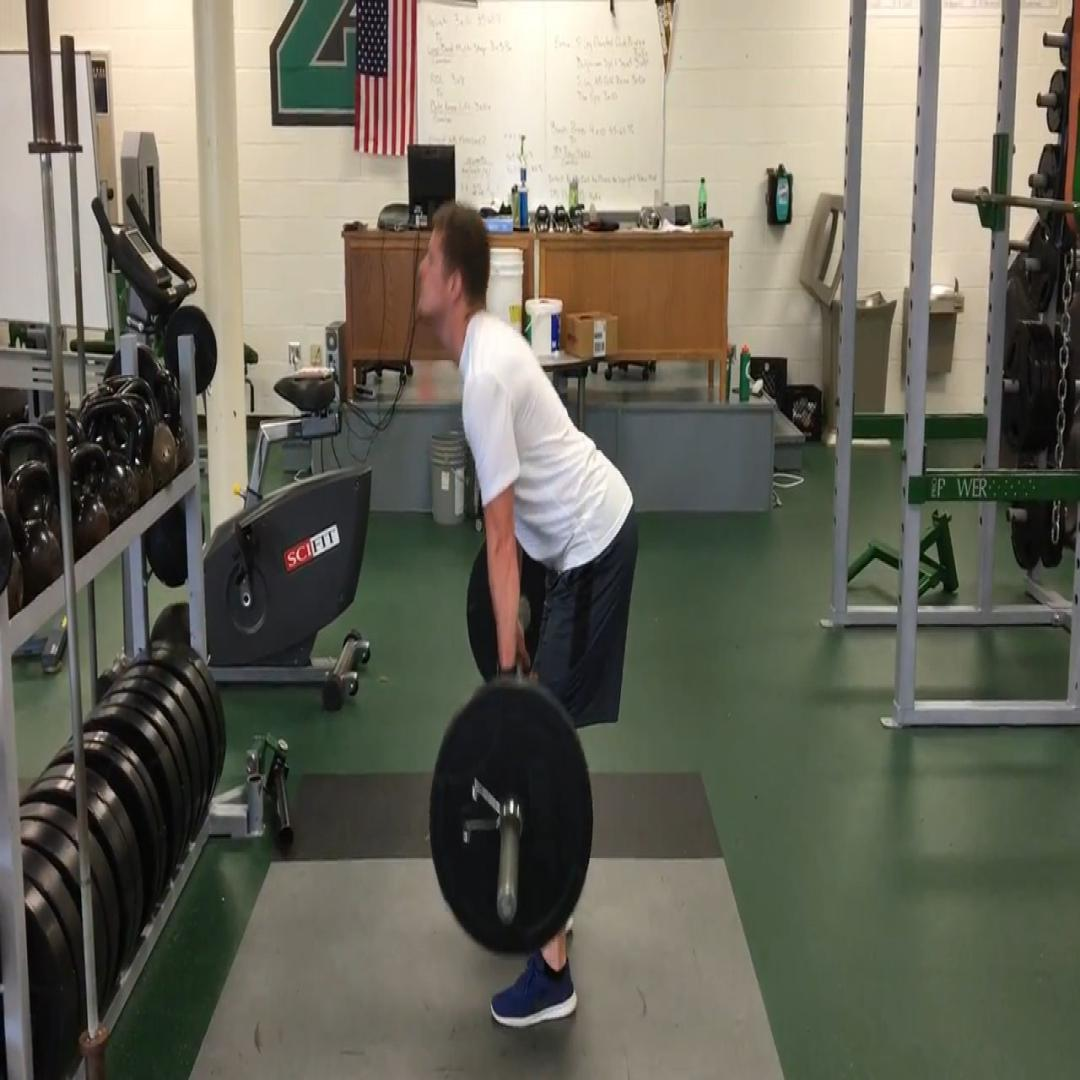Bar: (495, 880, 519, 926)
Barbell: (428, 686, 594, 958)
